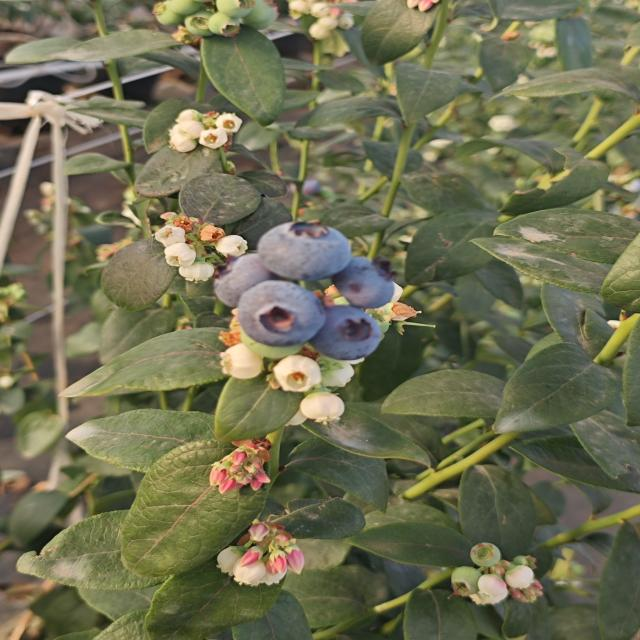ripe: (233, 278, 328, 349), (254, 219, 354, 283), (313, 302, 383, 358), (212, 249, 261, 296), (343, 268, 396, 304)
